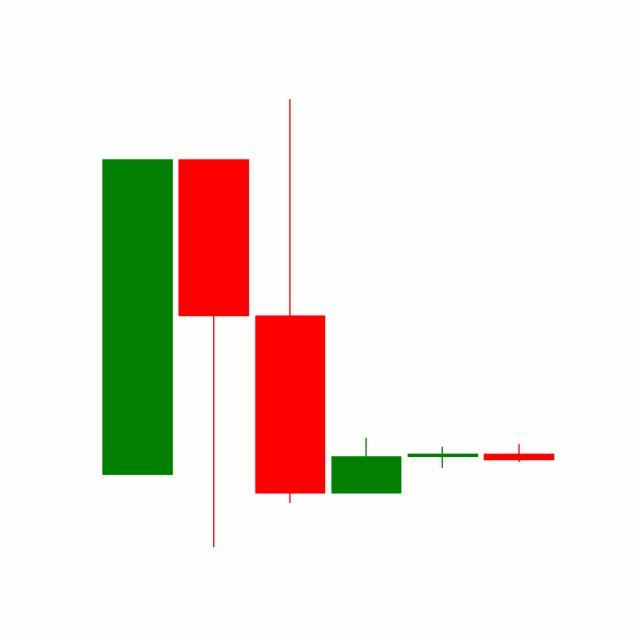Hanging Man: (404, 446, 482, 469)
